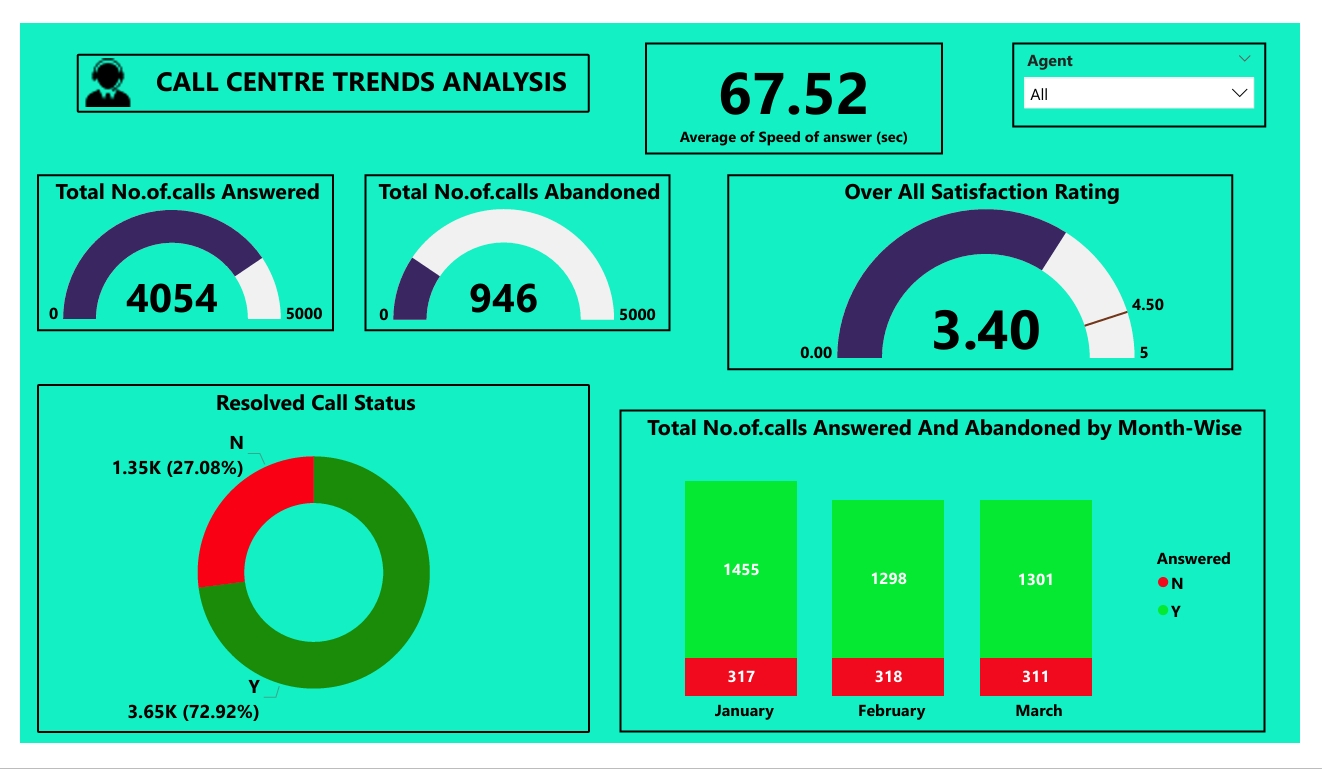

What the dashboard file says about the page in this screenshot:
{"tool":"powerbi","page":{"name":"call centre","canvas":[1280,720],"ordinal":0},"visuals":[{"type":"gauge","title":"Over All Satisfaction Rating ","fields":{"Y":["Avg(Sheet1.Satisfaction rating)"],"MaxValue":["Max(Sheet1.Satisfaction rating)1"]},"box":[707.2,150.2,506,195.6],"z":0},{"type":"textbox","box":[57.4,29.5,513.1,59],"z":1000},{"type":"image","box":[42.6,29.5,91.8,59],"z":2000},{"type":"gauge","fields":{"Y":["Sheet1.CountAnswered"]},"box":[17.2,150.2,297.5,157.3],"z":3000},{"type":"gauge","fields":{"Y":["Sheet1.CountAbandoned"]},"box":[344.4,150.2,306.1,157.3],"z":4000},{"type":"donutChart","title":" Resolved Call Status ","fields":{"Category":["Sheet1.Resolved"],"Y":["CountNonNull(Sheet1.Resolved)"]},"box":[17.2,360.4,553.5,349],"z":5000},{"type":"card","fields":{"Values":["Avg(Sheet1.Speed of answer in seconds)"]},"box":[625,18.4,297.6,112],"z":6000},{"type":"columnChart","title":"Total No.of.calls Answered And Abandoned by Month-Wise","fields":{"Y":["CountNonNull(Sheet1.Answered (Y/N))"],"Category":["Sheet1.Date.Variation.Date Hierarchy.Month"],"Series":["Sheet1.Answered (Y/N)"]},"box":[599.5,385.5,646.3,323.1],"z":8000},{"type":"slicer","fields":{"Values":["Sheet1.Agent"]},"box":[992.1,18.4,253.7,85],"z":10000}]}

Visuals, with their boxes in screenshot pixels (x1, y1, x2, y2):
"Over All Satisfaction Rating " gauge: <region>720, 167, 1236, 366</region>
textbox: <region>58, 44, 581, 104</region>
image: <region>43, 44, 137, 104</region>
gauge - Sheet1.CountAnswered: <region>18, 167, 321, 327</region>
gauge - Sheet1.CountAbandoned: <region>351, 167, 663, 327</region>
" Resolved Call Status " donutChart: <region>18, 381, 581, 736</region>
card - Avg(Sheet1.Speed of answer in seconds): <region>637, 33, 940, 147</region>
"Total No.of.calls Answered And Abandoned by Month-Wise" columnChart: <region>611, 406, 1269, 736</region>
slicer - Sheet1.Agent: <region>1010, 33, 1269, 119</region>
